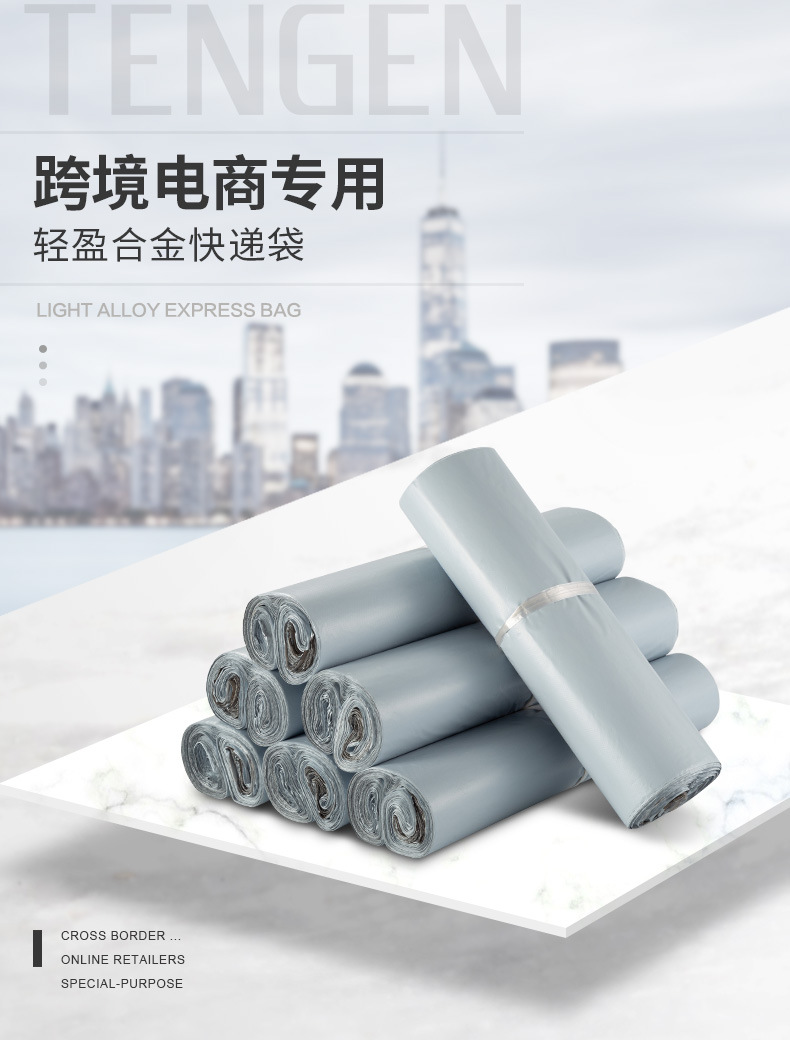Parcel: (182, 448, 720, 859)
